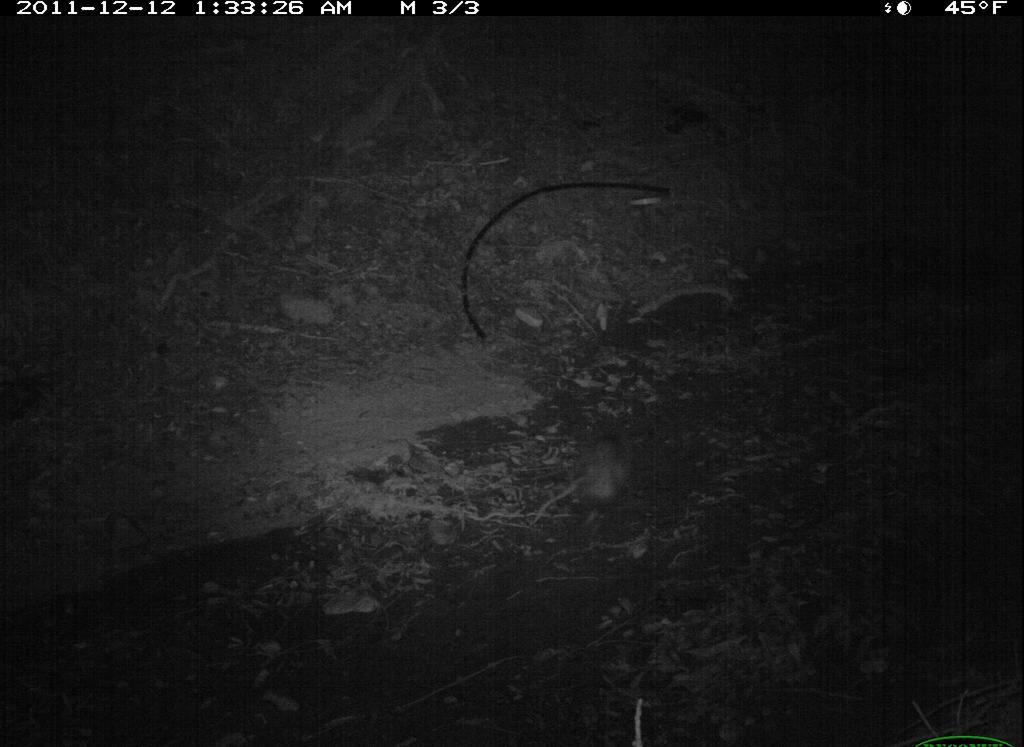opossum: (563, 418, 662, 529)
